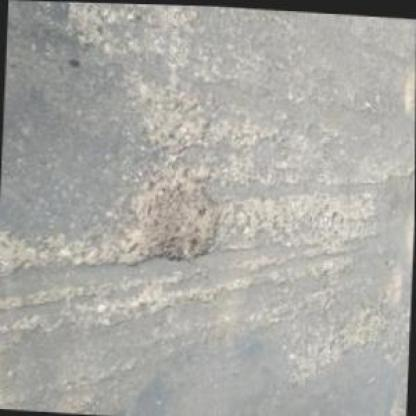pothole: (119, 176, 222, 273)
